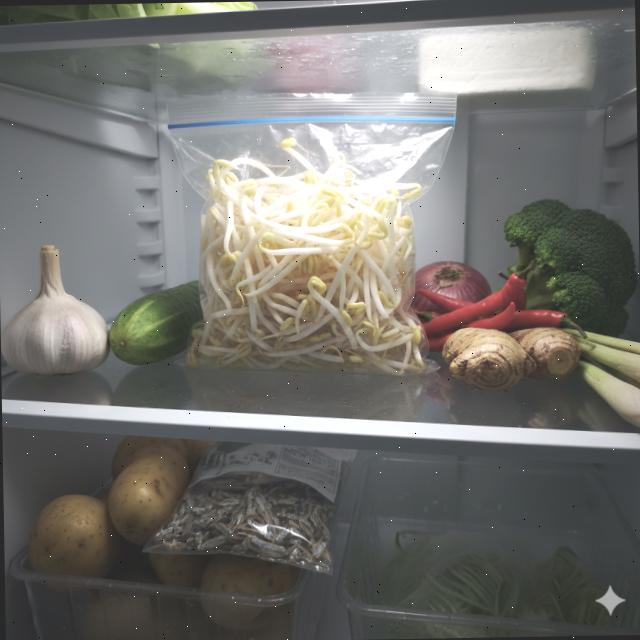anchovies: (152, 465, 338, 575)
bean_sprouts: (183, 135, 426, 381)
brocolli: (502, 198, 638, 338)
chili: (412, 258, 588, 352)
cucumber: (109, 278, 207, 364)
garlic: (0, 242, 110, 375)
ginger: (442, 324, 582, 390)
onion: (412, 260, 493, 304)
potato: (24, 432, 213, 580)
